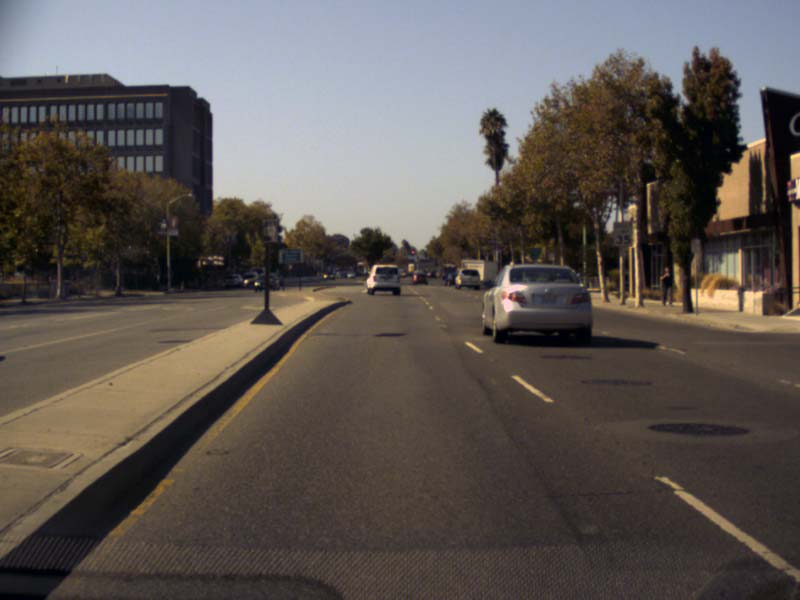Red: (411, 250, 414, 254)
